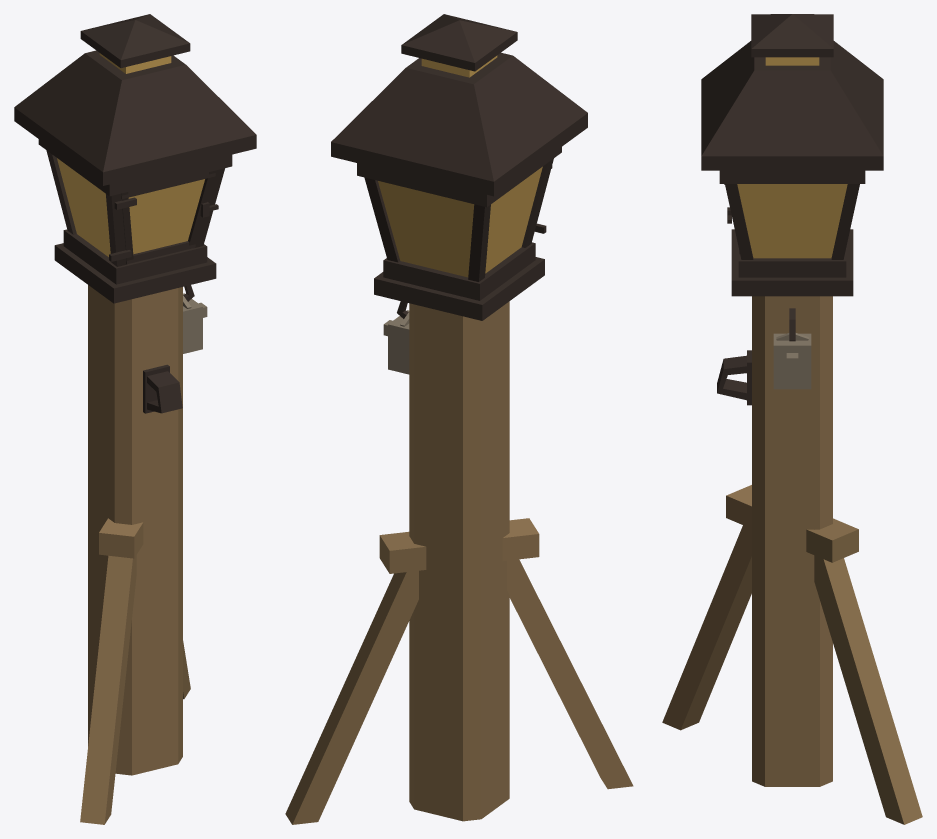
File: street-oil-lamp-d246ea.glb
3 renders of one model, left to right at view 1: azimuth 30°, elevation 25°; view 2: azimuth 150°, elevation 25°; view 3: azimuth 270°, elevation 25°, orthographic. The views are drawn at different scales.
Parts seen in each view (by area): view 1: lamp-body, door-leaf, oil-can; view 2: lamp-body, oil-can; view 3: lamp-body, oil-can.
Boxes of the visible parts, <box> form: lamp-body: <box>14,14,256,824</box>; door-leaf: <box>109,170,218,264</box>; oil-can: <box>183,293,207,353</box>; lamp-body: <box>285,14,633,824</box>; oil-can: <box>383,310,409,374</box>; lamp-body: <box>662,14,922,824</box>; oil-can: <box>773,333,811,389</box>.
Bounding box in the file's own units: 1 × 3.2 × 1.
